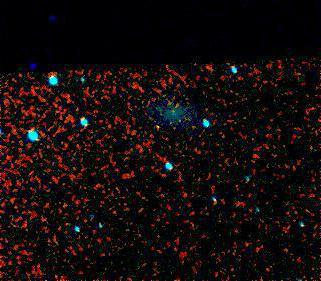star: (164, 107, 194, 137)
